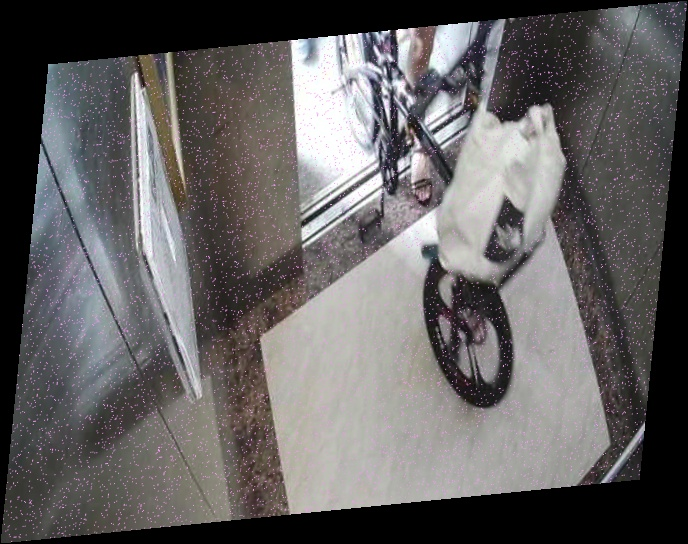bicycle: (327, 14, 587, 419)
